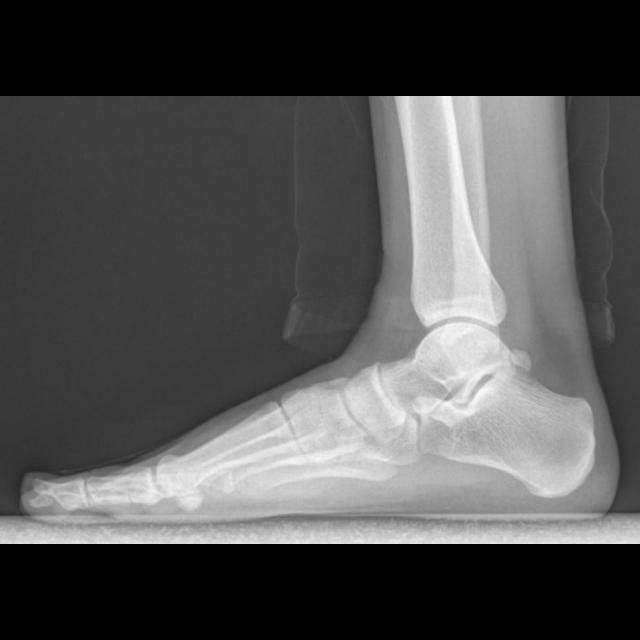a: (416, 365, 594, 499)
b: (341, 363, 406, 442)
c: (154, 401, 308, 498)
